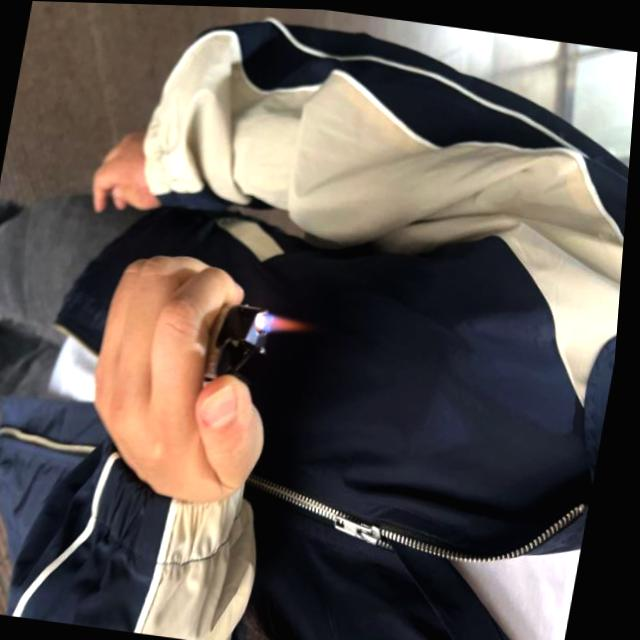helmet: (261, 308, 315, 335)
